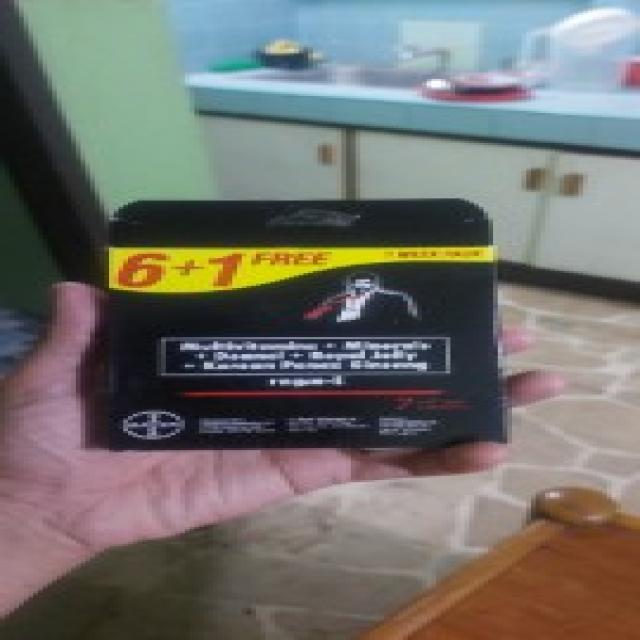Cacat: (92, 196, 491, 445)
